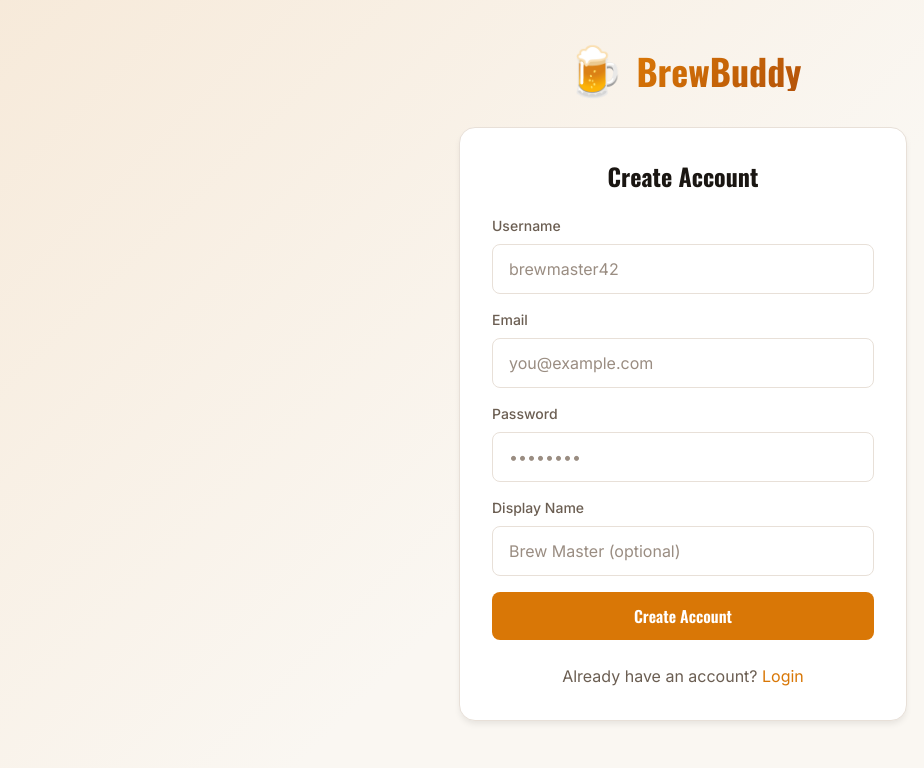
Scenario: Register Page › displays required field errors when form is submitted empty
What coordinates should you click on to do the following:
click the button "Create Account"
I would click on:
 (683, 616)
Its box is [492,592,874,640].
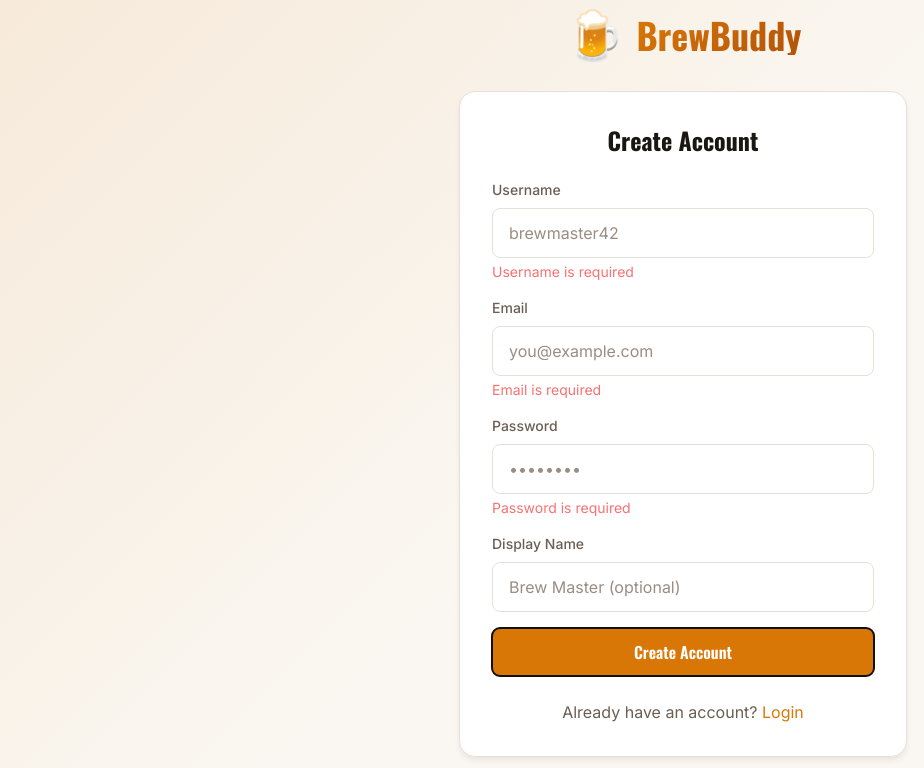
Expected: the text "Username is required" is shown, [492,263,634,280]
Expected: the text "Email is required" is shown, [492,381,601,398]
Expected: the text "Password is required" is shown, [492,499,631,516]
